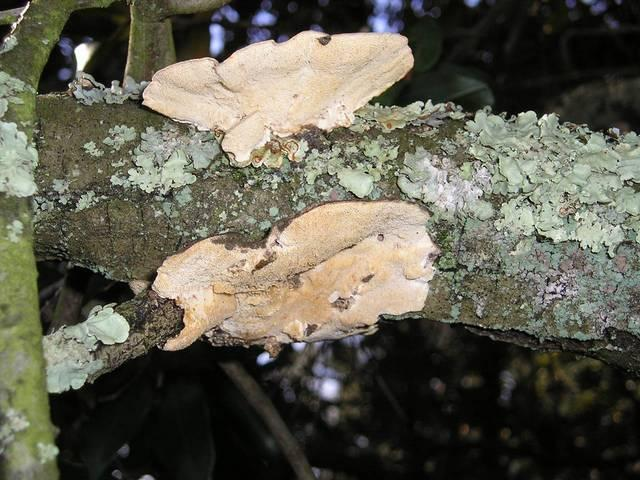poisonous_mushroom: (149, 197, 442, 356), (140, 28, 415, 167)
